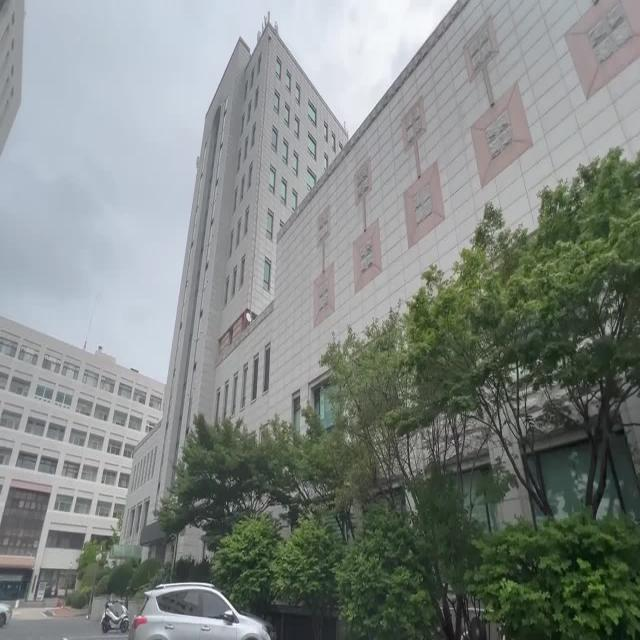building: (174, 9, 448, 334)
